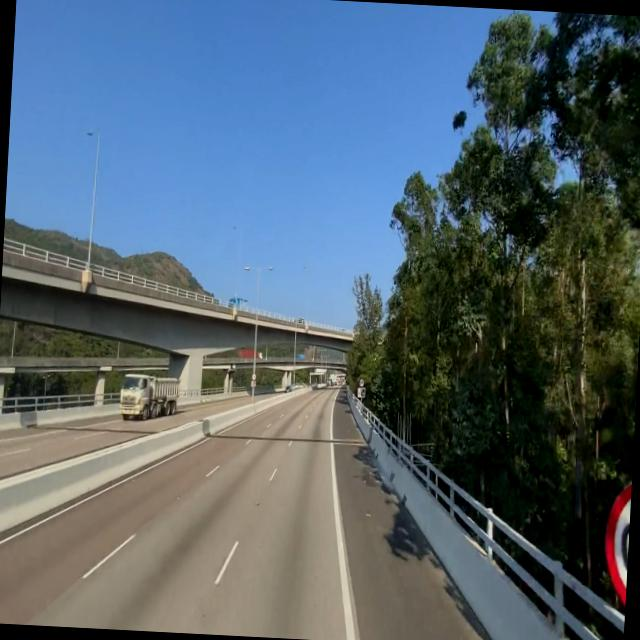Vehicle: (116, 371, 180, 429)
